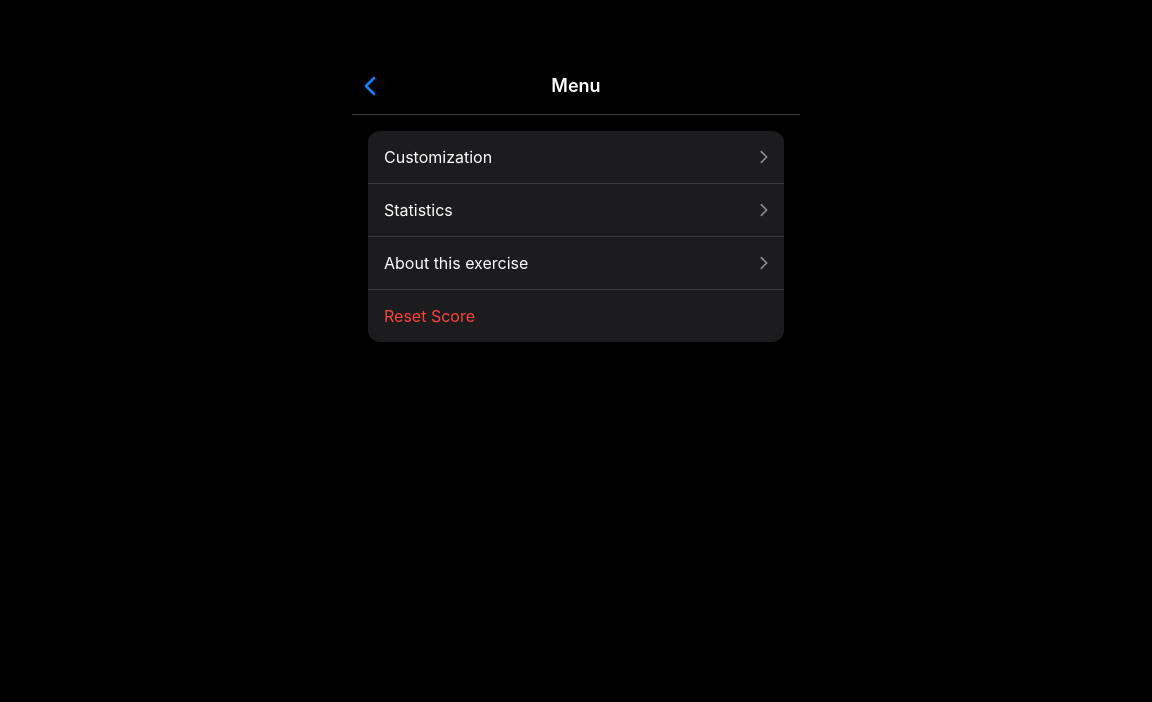
Test case: independence from the chord exercise › does not see changes made to the chord exercise
The image size is (1152, 702).
Click the button "Customization" at (438, 157), box left=368, top=131, right=784, bottom=183
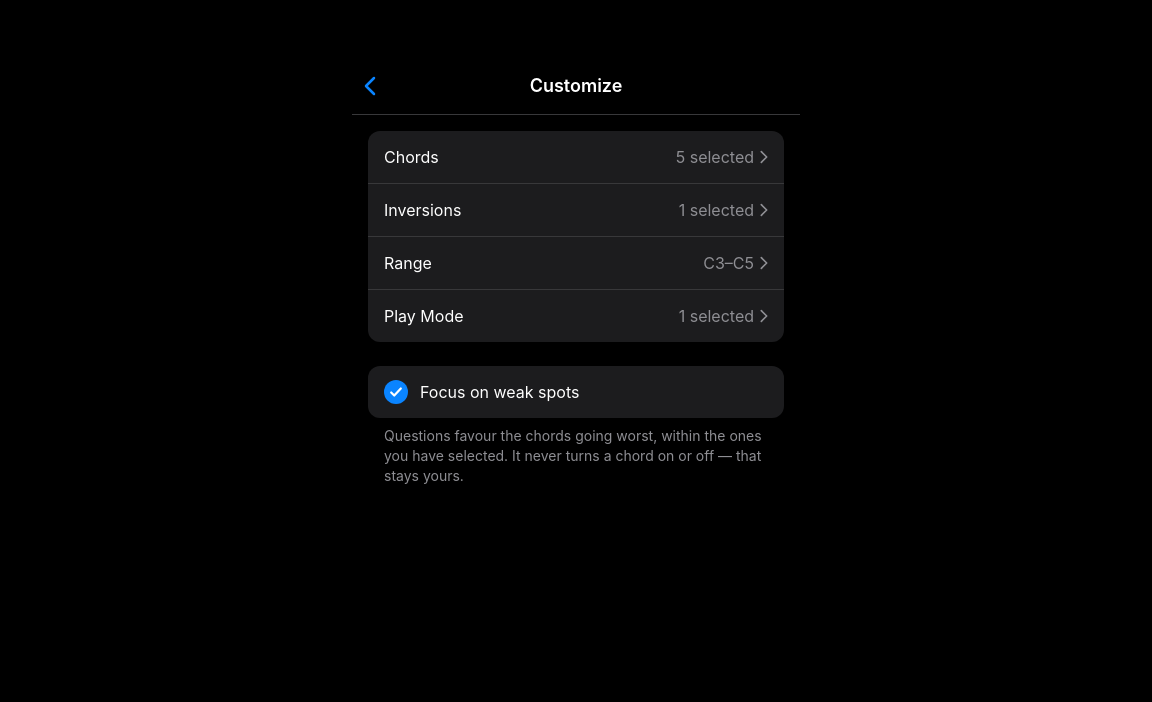
Click the button "Chords 5 selected" at (411, 157), box left=368, top=131, right=784, bottom=183
(page scrolled)
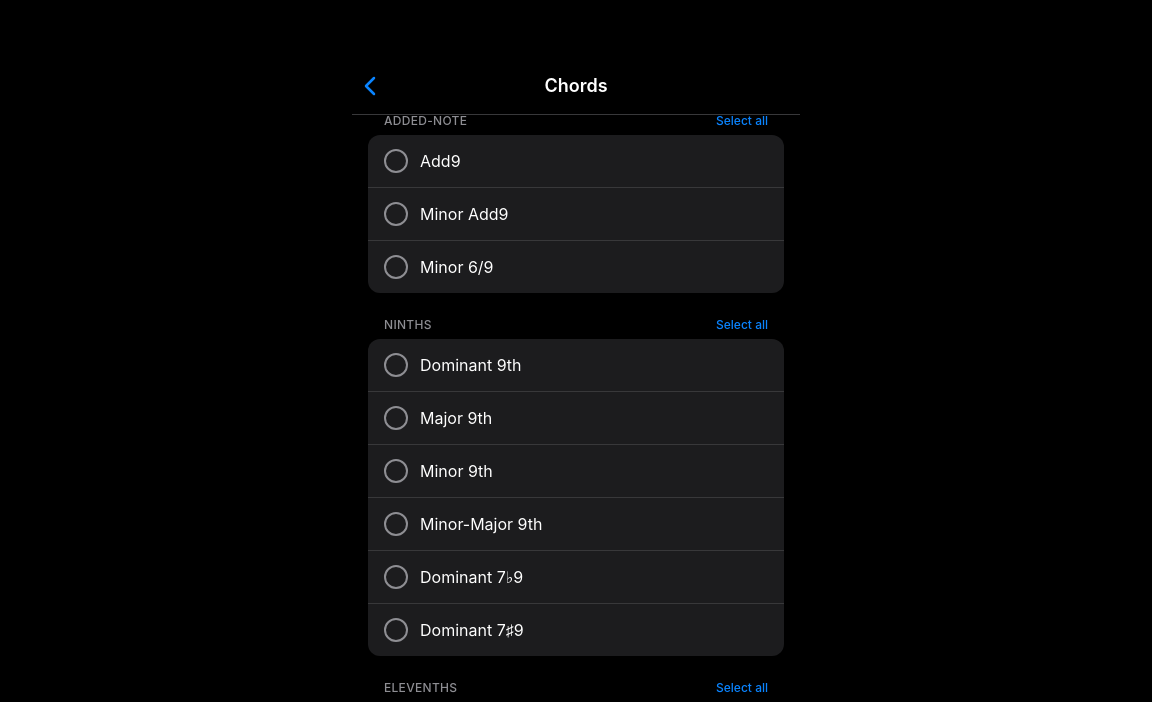
Expected: the checkbox labelled "Major 9th" is not checked, left=368, top=391, right=784, bottom=444
